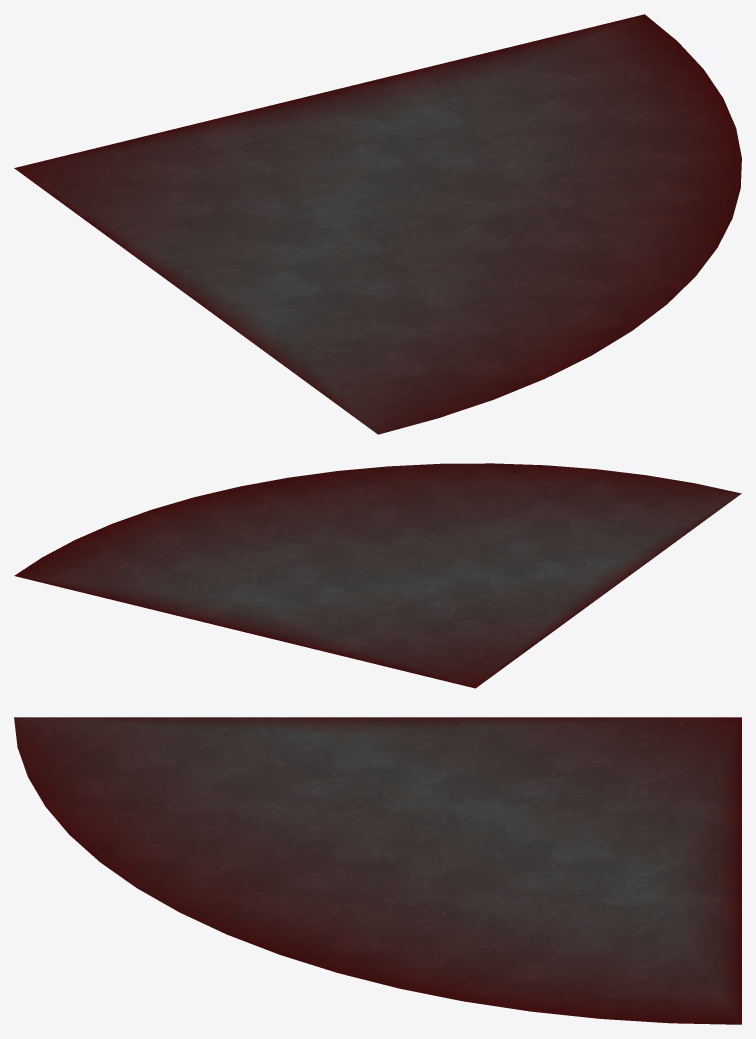
File: Street_Asphalt_Curve_2Lane.glb
3 views of the same model, one above another, from view 1: azimuth 30°, elevation 25°; view 2: azimuth 150°, elevation 25°; view 3: azimuth 270°, elevation 25° (orthographic). The views are drawn at different scales.
Parts seen in each view (by area): view 1: Street_Asphalt_Curve_2Lane; view 2: Street_Asphalt_Curve_2Lane; view 3: Street_Asphalt_Curve_2Lane.
Boxes of the visible parts, x1,y1,x2,y2 form: Street_Asphalt_Curve_2Lane: (14,14,741,434); Street_Asphalt_Curve_2Lane: (14,463,741,688); Street_Asphalt_Curve_2Lane: (14,717,741,1024).
Bounding box in the file's own units: 10 × 0 × 10.
1 material, 1 textured.
